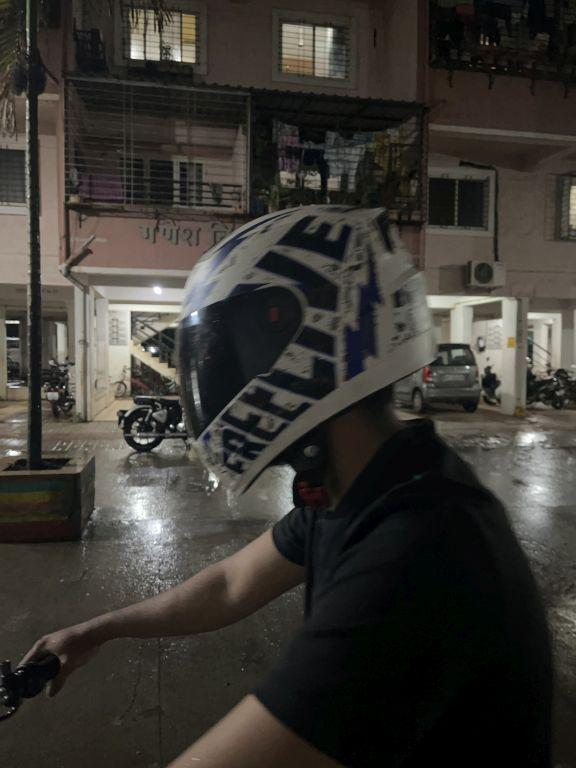helmet: (159, 190, 445, 506)
